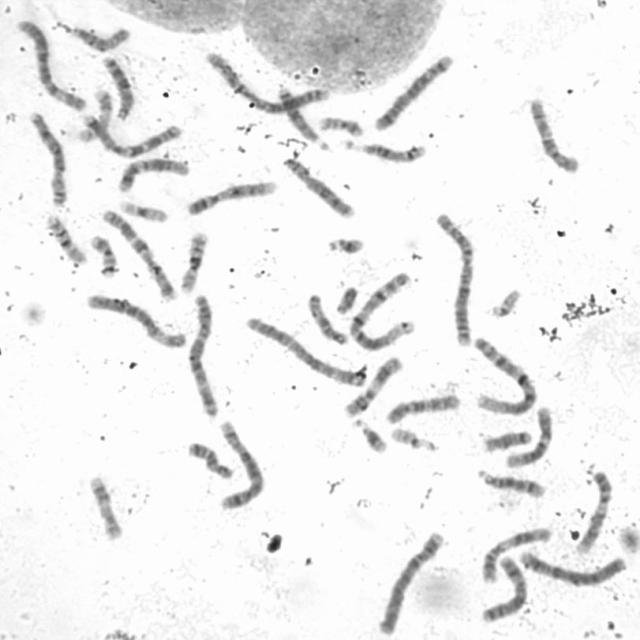A1: (469, 333, 539, 417), (346, 270, 416, 352)
A2: (201, 48, 329, 115), (432, 209, 475, 348)
A3: (241, 314, 367, 388), (184, 291, 222, 419)
B4: (375, 526, 448, 637), (513, 546, 628, 588)
B5: (371, 51, 456, 133), (215, 418, 266, 511)
C10: (524, 92, 580, 175), (382, 392, 462, 426)
C11: (478, 524, 554, 585), (341, 354, 404, 419)
C12: (502, 403, 554, 468), (114, 154, 190, 193)
C6: (14, 16, 88, 112), (83, 290, 188, 350)
C7: (100, 206, 178, 302), (78, 110, 182, 158)
C8: (278, 154, 356, 220), (26, 108, 70, 209)
C9: (183, 177, 279, 217), (572, 468, 614, 554)
D13: (274, 84, 332, 152), (98, 52, 136, 122)
D14: (471, 465, 547, 500), (340, 136, 428, 164)
D15: (304, 290, 350, 346), (67, 22, 130, 54)
E16: (42, 213, 86, 265), (177, 227, 209, 294)
E17: (87, 472, 123, 542), (75, 86, 117, 144)
E18: (186, 438, 235, 480), (480, 428, 532, 453)
F19: (116, 197, 170, 224)
F20: (87, 232, 119, 280), (316, 113, 365, 138)
G21: (351, 415, 388, 455), (324, 233, 366, 256)
G22: (388, 424, 440, 452), (487, 286, 523, 318)
X: (26, 108, 70, 209), (477, 552, 528, 624)
Y: (333, 283, 359, 315)
